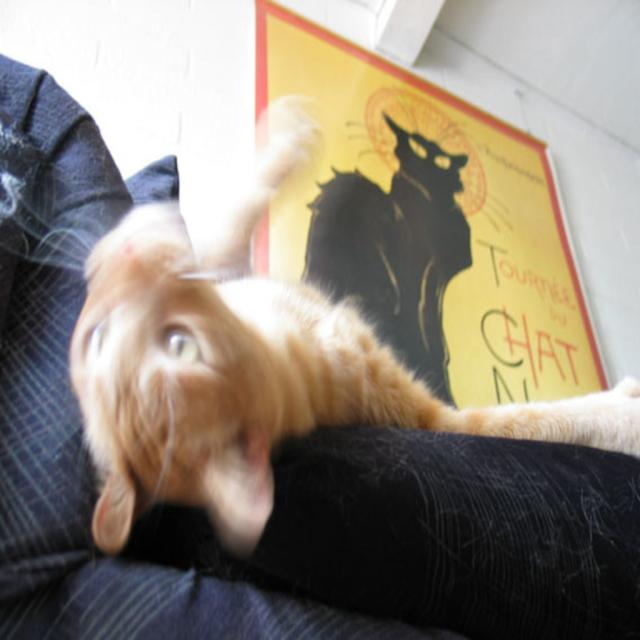Cat: (61, 94, 638, 549)
